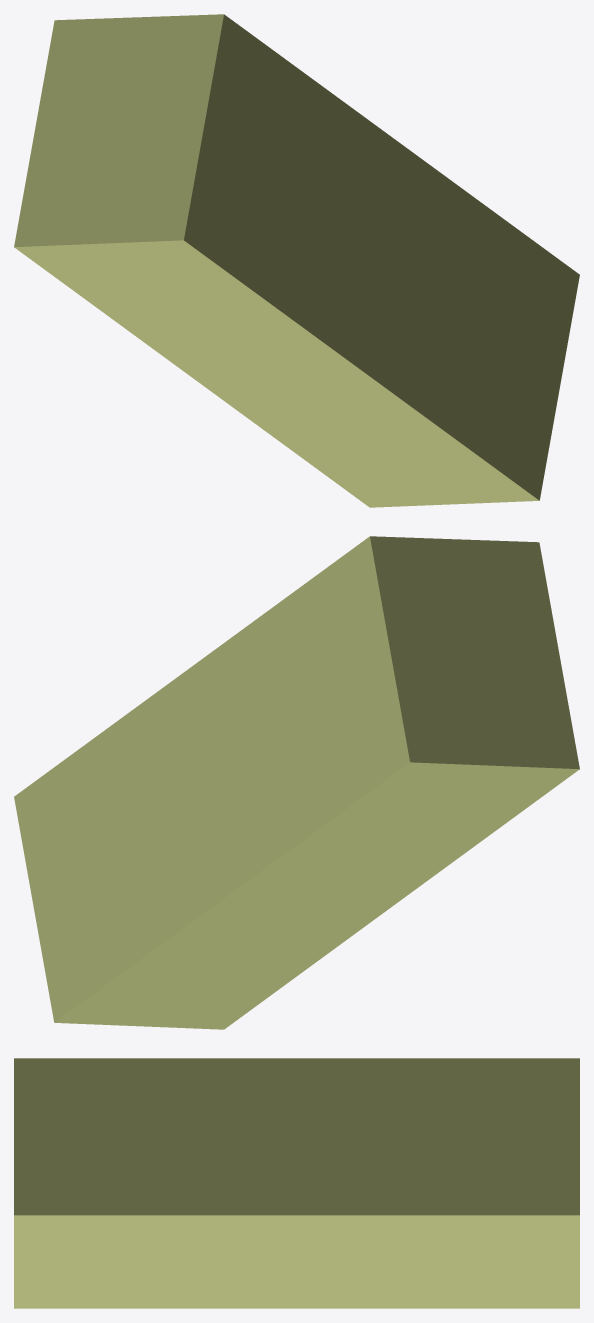
3 renders of one model, top to bottom at view 1: azimuth 30°, elevation 25°; view 2: azimuth 150°, elevation 25°; view 3: azimuth 270°, elevation 25°, orthographic. The views are drawn at different scales.
Visible parts, largest first — view 1: 0_1_2_0_3_3_2_0_1_2_0_2; view 2: 0_1_2_0_3_3_2_0_1_2_0_2; view 3: 0_1_2_0_3_3_2_0_1_2_0_2.
Part boxes in pixels (box(x1,y1,x2,y2)): 0_1_2_0_3_3_2_0_1_2_0_2: box(14, 14, 579, 507); 0_1_2_0_3_3_2_0_1_2_0_2: box(14, 536, 579, 1029); 0_1_2_0_3_3_2_0_1_2_0_2: box(14, 1058, 579, 1308).
Bounding box in the file's own units: 2.05 × 2.34 × 6.
